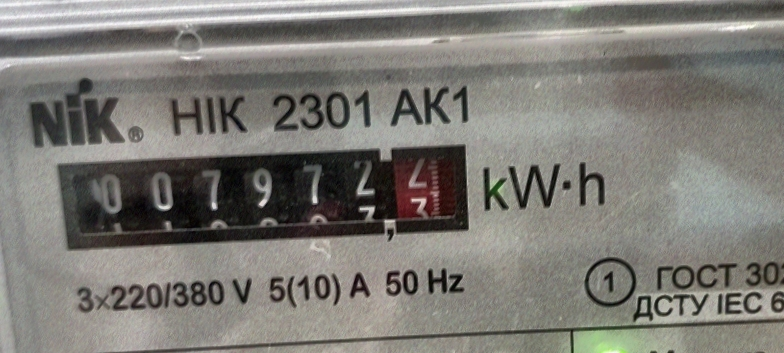0: (97, 172, 125, 214), (149, 169, 175, 211)
2: (352, 158, 376, 197), (403, 156, 428, 191)
3: (407, 194, 430, 219)
7: (299, 161, 327, 208), (199, 166, 224, 212)
9: (249, 165, 273, 209)
screen: (40, 132, 486, 264)
